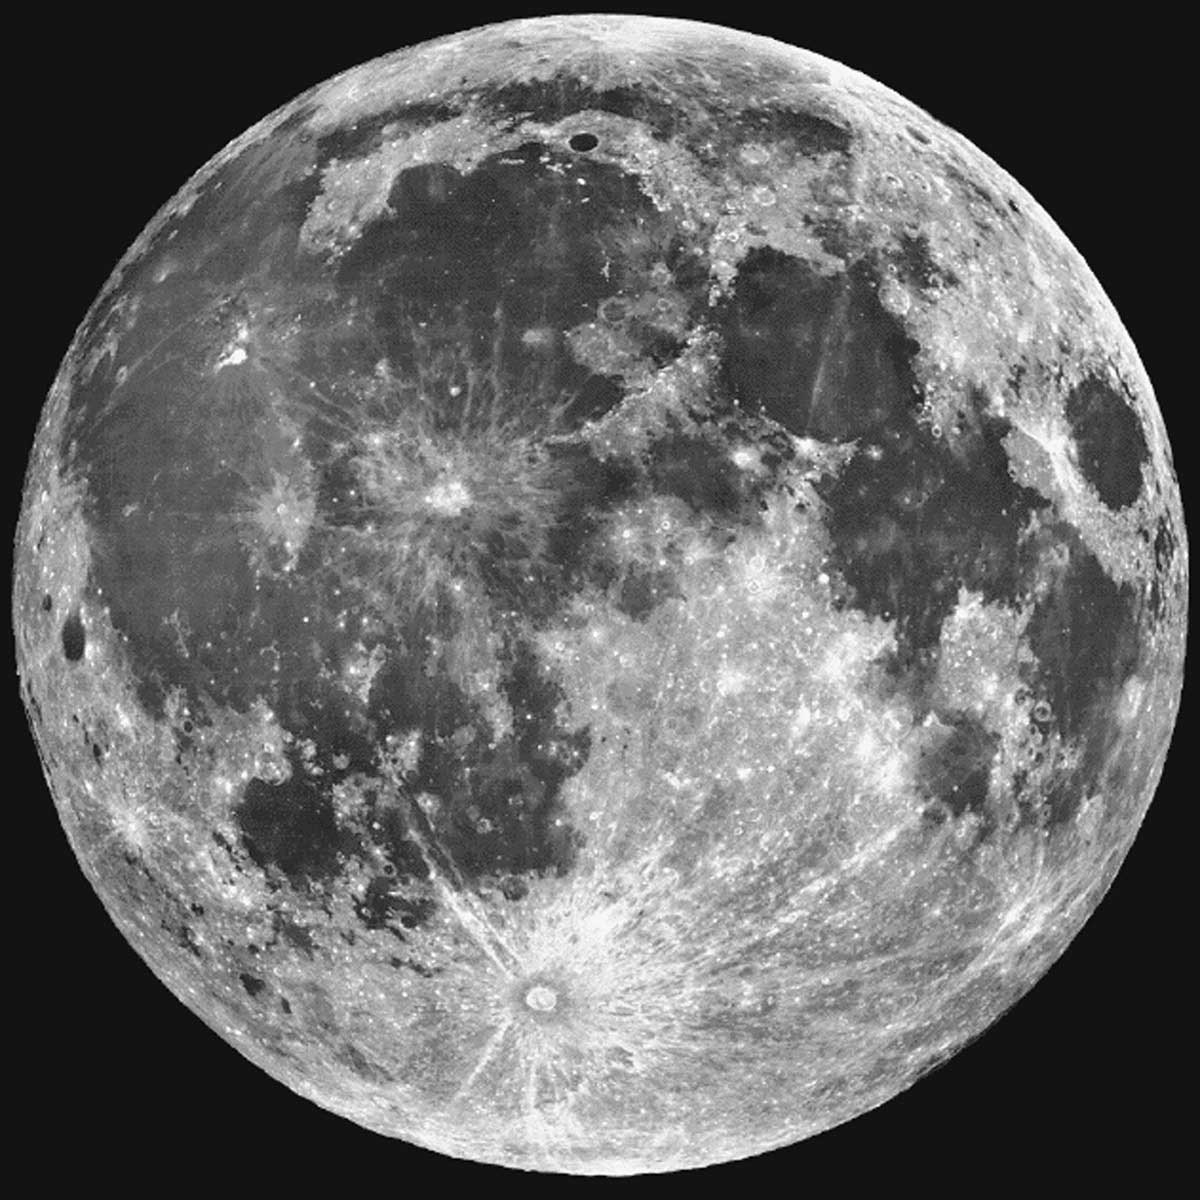crater: (381, 815, 746, 1104), (341, 384, 534, 577), (1055, 371, 1155, 562), (209, 426, 330, 570), (73, 763, 204, 855), (57, 596, 118, 668), (868, 114, 933, 166), (549, 120, 613, 168), (198, 341, 268, 382), (721, 121, 778, 170), (749, 175, 792, 215), (542, 627, 577, 663), (29, 575, 57, 614), (175, 715, 213, 741), (291, 600, 319, 633)
